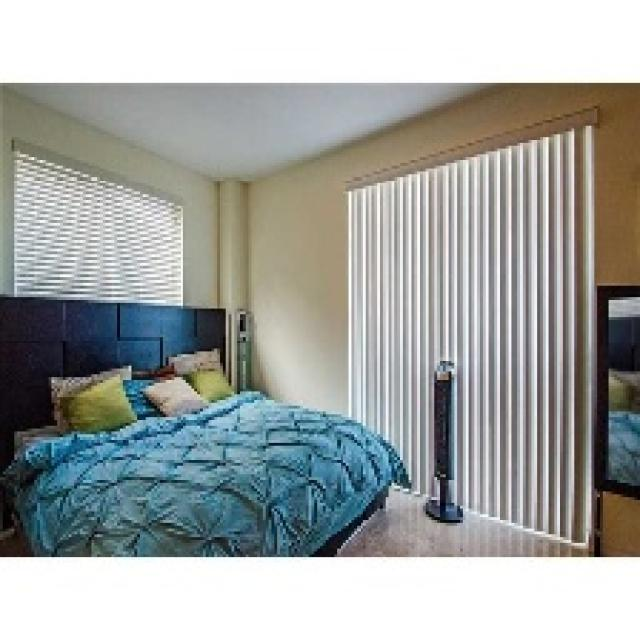Bed: (0, 292, 409, 554), (592, 283, 637, 554)
